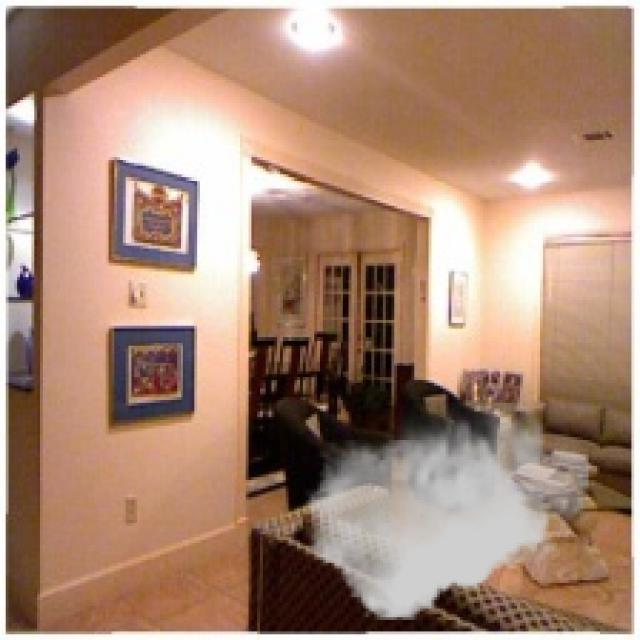Smoke: (306, 403, 588, 620)
